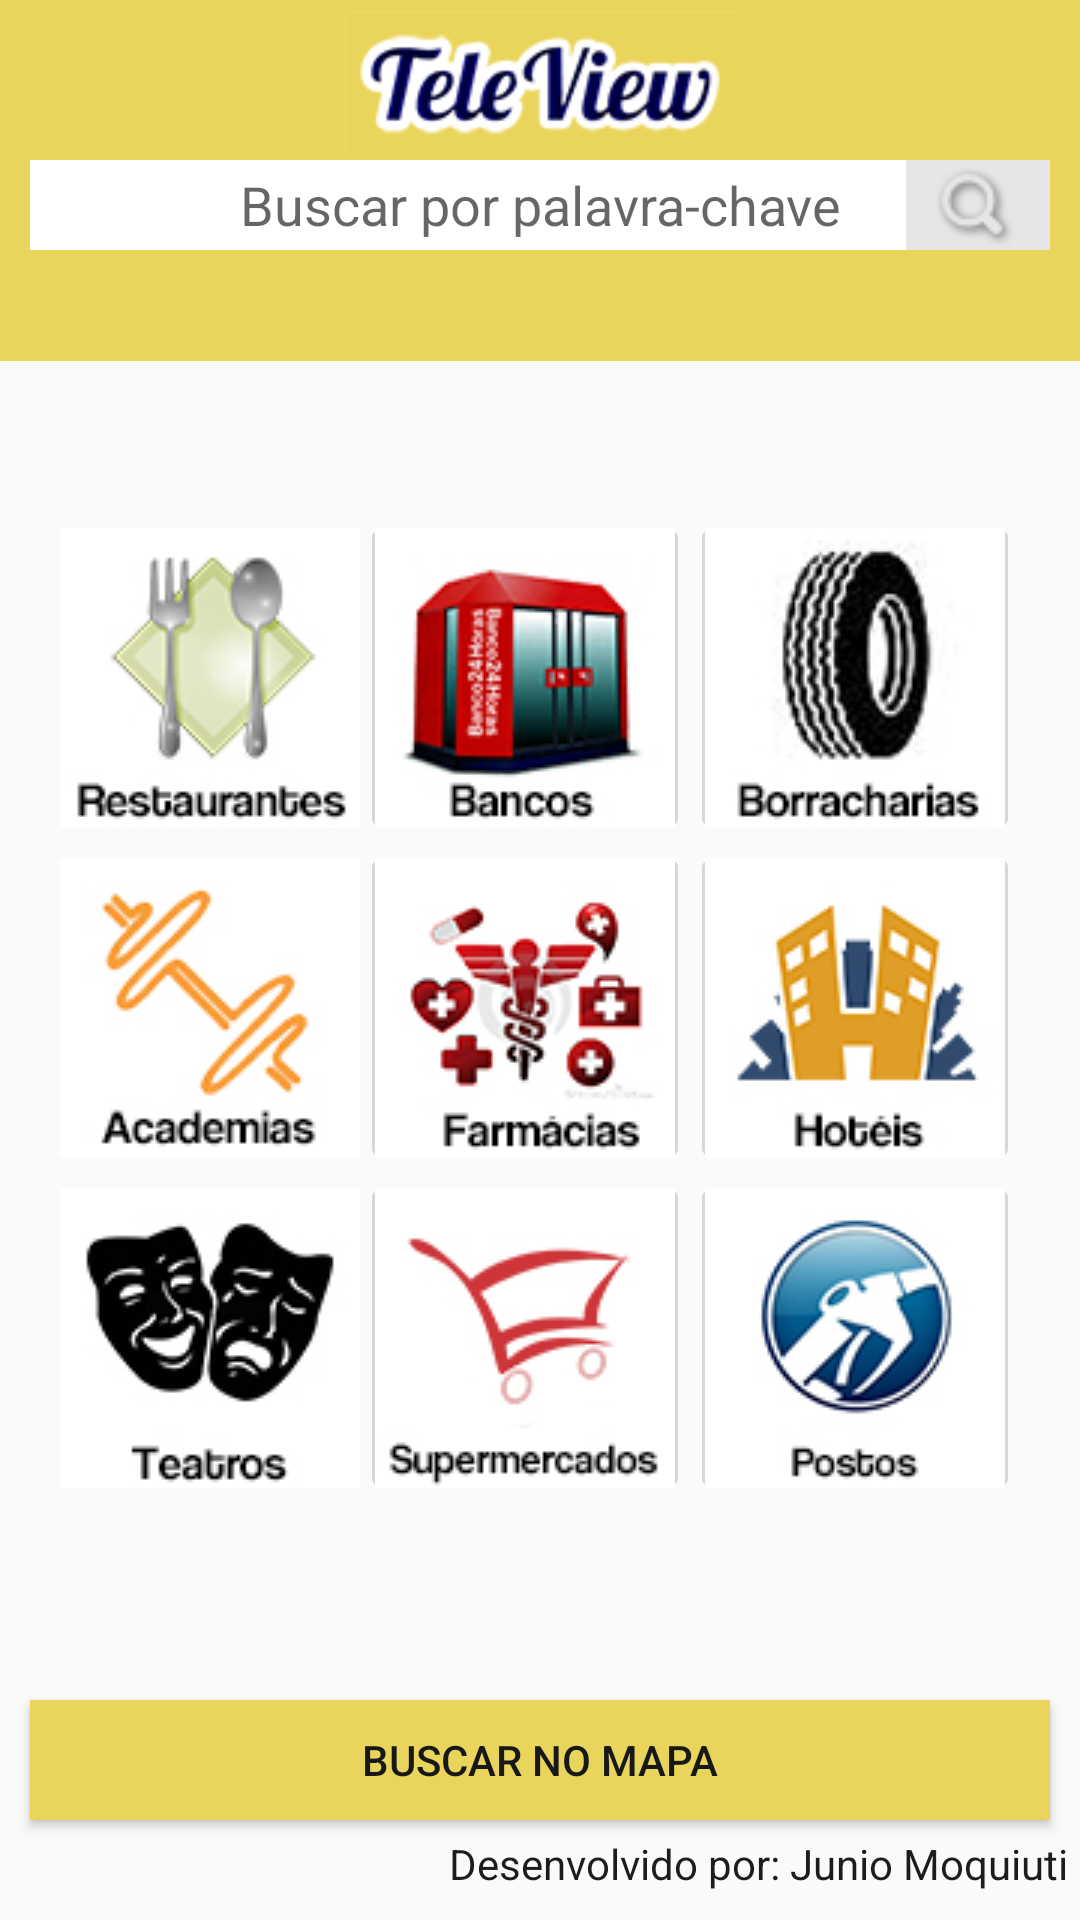

Where to tap for icons on this 1080px x 1920px app screen, as (x,y):
lupa: (978,205)
